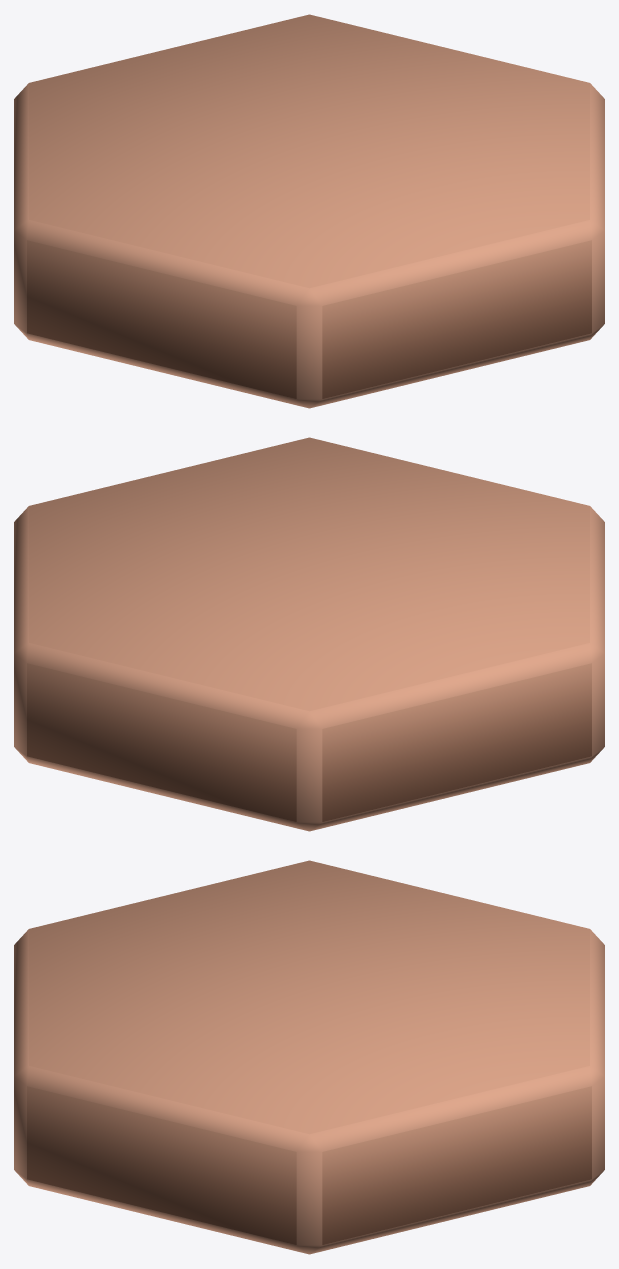
The model's file is bavel_spot_brown.fbx.
3 views of the same model, one above another, from view 1: azimuth 30°, elevation 25°; view 2: azimuth 150°, elevation 25°; view 3: azimuth 270°, elevation 25° (orthographic).
Visible parts, largest first — view 1: bavel_spot_brown; view 2: bavel_spot_brown; view 3: bavel_spot_brown.
Part boxes in pixels (x1,y1,x2,y2): bavel_spot_brown: (14, 14, 604, 408); bavel_spot_brown: (14, 437, 604, 831); bavel_spot_brown: (14, 860, 604, 1254).
Bounding box in the file's own units: 358 × 71.12 × 317.
1 material, 1 textured.
